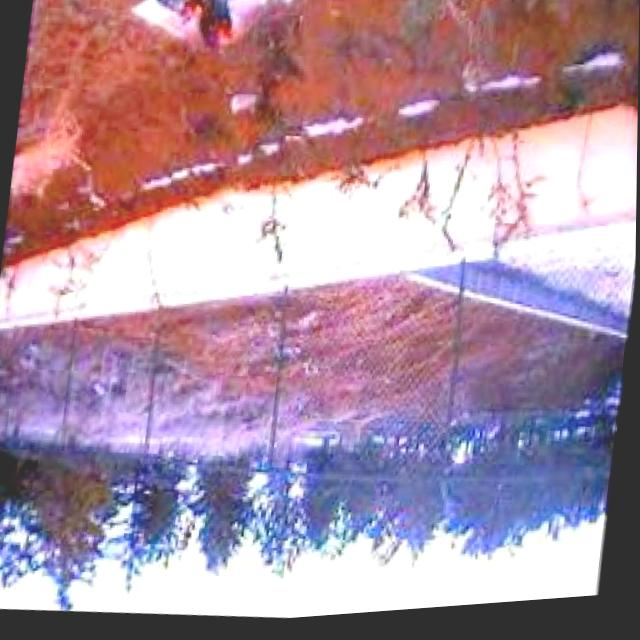helmet: (167, 0, 244, 66)
